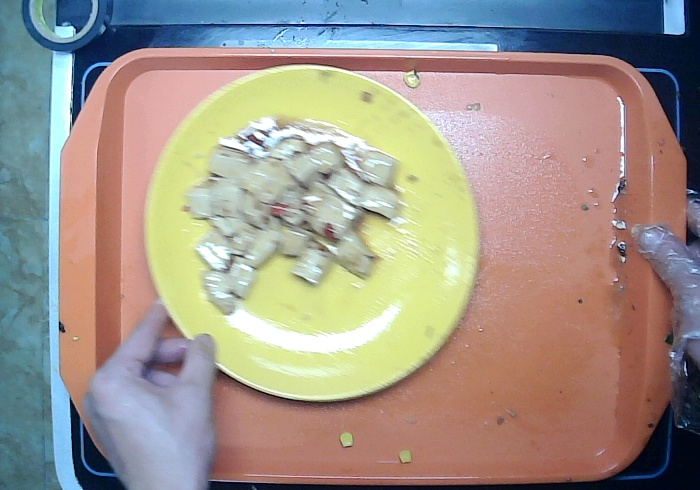HZYJPL-Huang_Se_Yuan_Pan: (139, 59, 489, 405)
